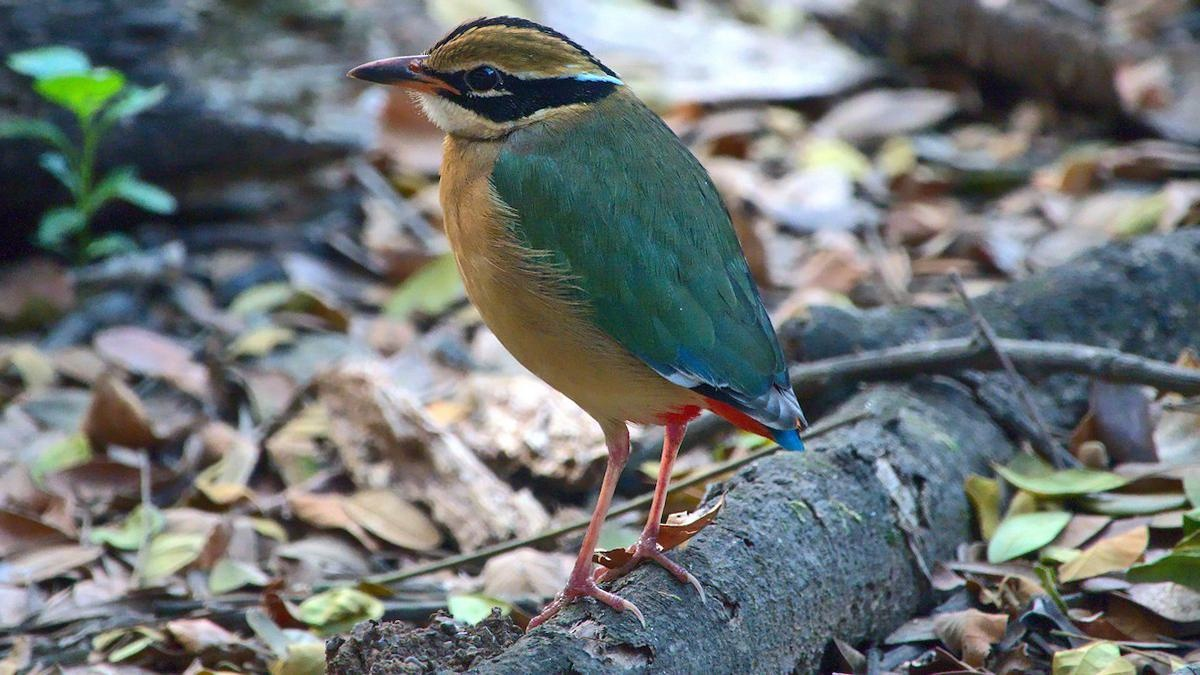pitta: (337, 14, 817, 597)
